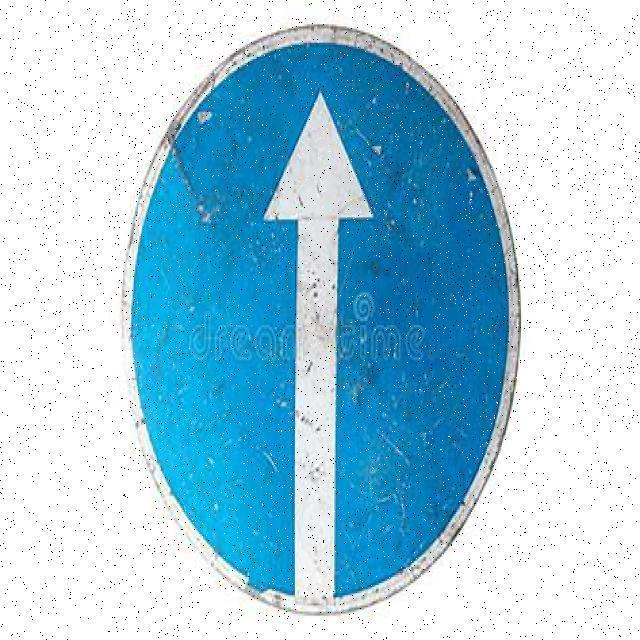compulsary ahead: (121, 22, 526, 611)
